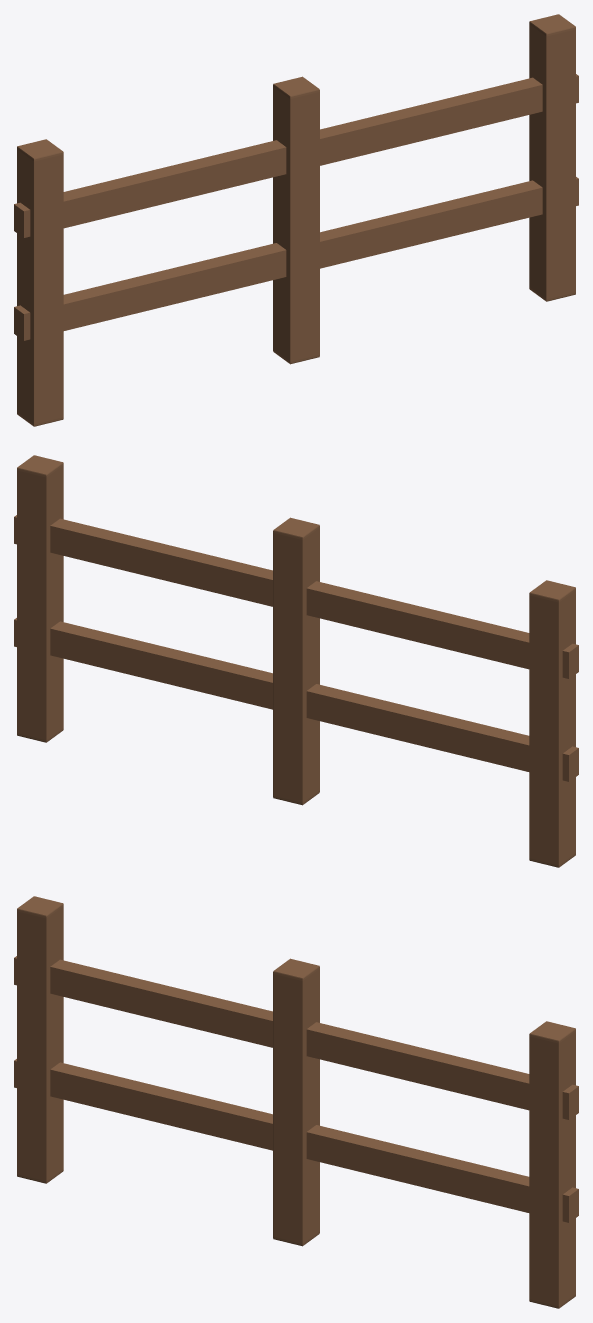
File: fence.glb
3 renders of one model, top to bottom at view 1: azimuth 30°, elevation 25°; view 2: azimuth 150°, elevation 25°; view 3: azimuth 330°, elevation 25°, orthographic.
Visible parts, largest first — view 1: Cube.003, Cube.004, Cube, Cube.001, Cube.002; view 2: Cube.003, Cube.004, Cube, Cube.001, Cube.002; view 3: Cube.003, Cube.004, Cube.002, Cube.001, Cube.
Part boxes in pixels (<box>): Cube.003: <box>14,177,578,340</box>; Cube.004: <box>14,74,578,237</box>; Cube: <box>17,139,63,426</box>; Cube.001: <box>273,76,319,364</box>; Cube.002: <box>529,14,575,301</box>; Cube.003: <box>14,618,578,781</box>; Cube.004: <box>14,515,578,678</box>; Cube: <box>529,580,575,867</box>; Cube.001: <box>273,517,319,805</box>; Cube.002: <box>17,455,63,742</box>; Cube.003: <box>14,1059,578,1222</box>; Cube.004: <box>14,956,578,1119</box>; Cube.002: <box>529,1021,575,1308</box>; Cube.001: <box>273,958,319,1246</box>; Cube: <box>17,896,63,1183</box>.
Bounding box in the file's own units: 1.3 × 0.6 × 0.07.
